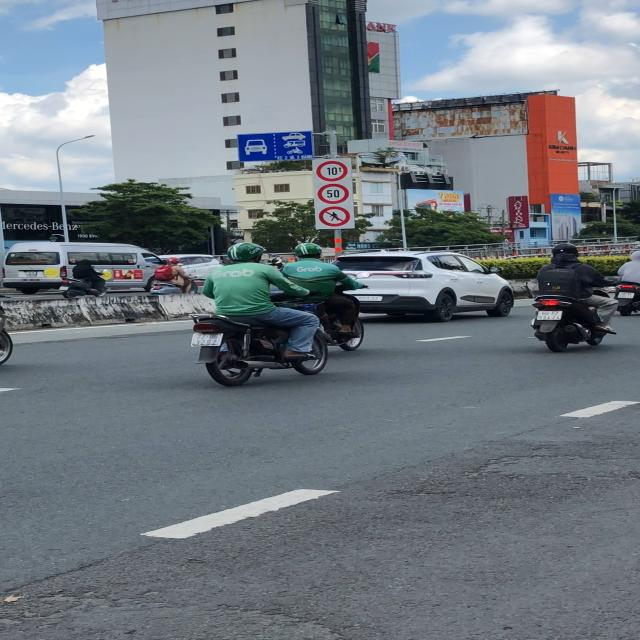Bien bao cam nguoi di bo: (317, 204, 353, 228)
Bien bao toc do toi da cho phep: (316, 182, 352, 203)
